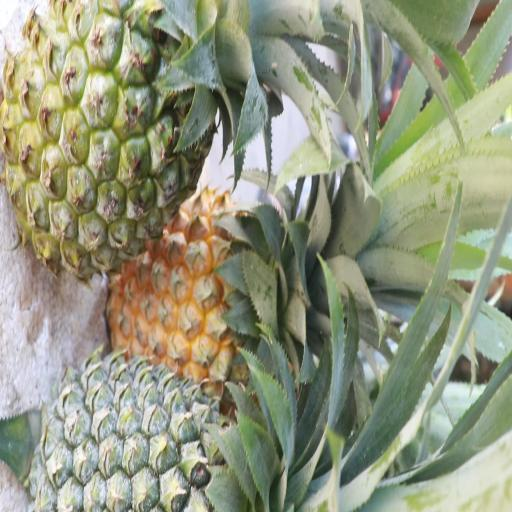------------------------------: (5, 4, 213, 269), (114, 197, 297, 385)
